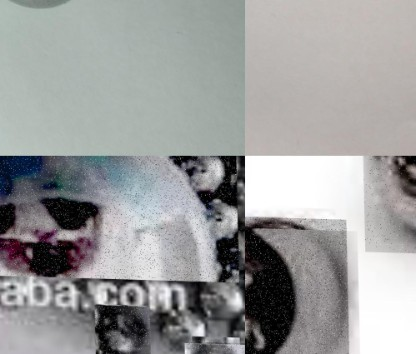ironball: (0, 155, 238, 280), (245, 214, 349, 353), (362, 155, 415, 255), (93, 303, 149, 353), (220, 225, 245, 277), (187, 338, 243, 353)
